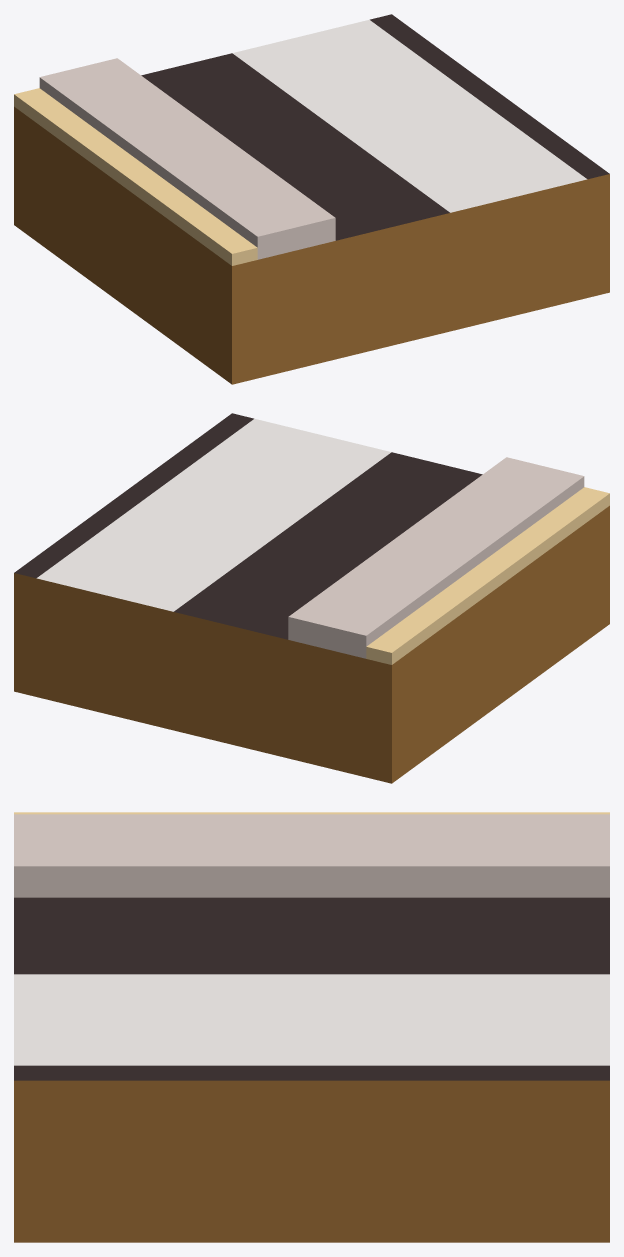
File: crosswalk_floor1.fbx
3 renders of one model, top to bottom at view 1: azimuth 30°, elevation 25°; view 2: azimuth 150°, elevation 25°; view 3: azimuth 270°, elevation 25°, orthographic. The views are drawn at different scales.
Parts seen in each view (by area): view 1: crosswalk_floor1; view 2: crosswalk_floor1; view 3: crosswalk_floor1.
Part boxes in pixels (x1,y1,x2,y2): crosswalk_floor1: (14, 14, 609, 384); crosswalk_floor1: (14, 413, 609, 783); crosswalk_floor1: (14, 812, 609, 1242).
Bounding box in the file's own units: 100 × 100 × 35.83.
